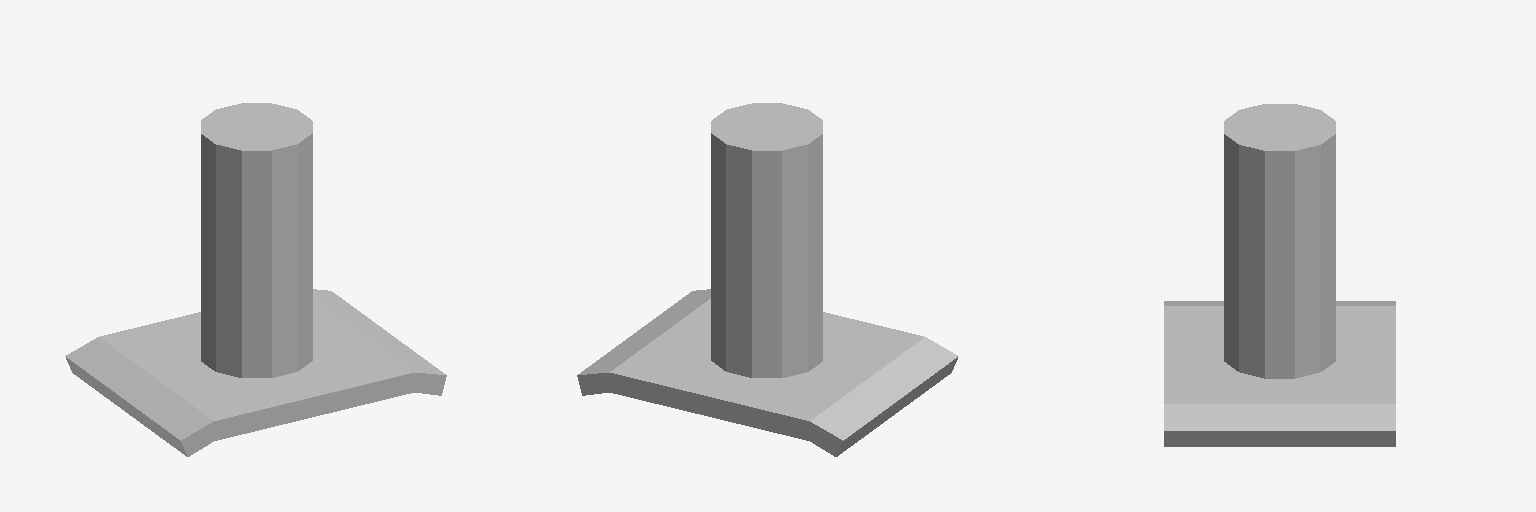
Rendered from capa_Scene.obj.
3 renders of one model, left to right at view 1: azimuth 30°, elevation 25°; view 2: azimuth 150°, elevation 25°; view 3: azimuth 270°, elevation 25°, orthographic.
Parts seen in each view (by area): view 1: Circle_Circle, Cube_Cube_INOXs.002; view 2: Circle_Circle, Cube_Cube_INOXs.002; view 3: Circle_Circle, Cube_Cube_INOXs.002.
Boxes of the visible parts, box(x1,y1,x2,y2) form: Circle_Circle: box(201, 103, 312, 377); Cube_Cube_INOXs.002: box(65, 289, 446, 456); Circle_Circle: box(711, 103, 822, 377); Cube_Cube_INOXs.002: box(577, 289, 958, 456); Circle_Circle: box(1224, 104, 1335, 378); Cube_Cube_INOXs.002: box(1164, 301, 1395, 446).
Size of the model in its own units: 2.66 by 2.46 by 2.